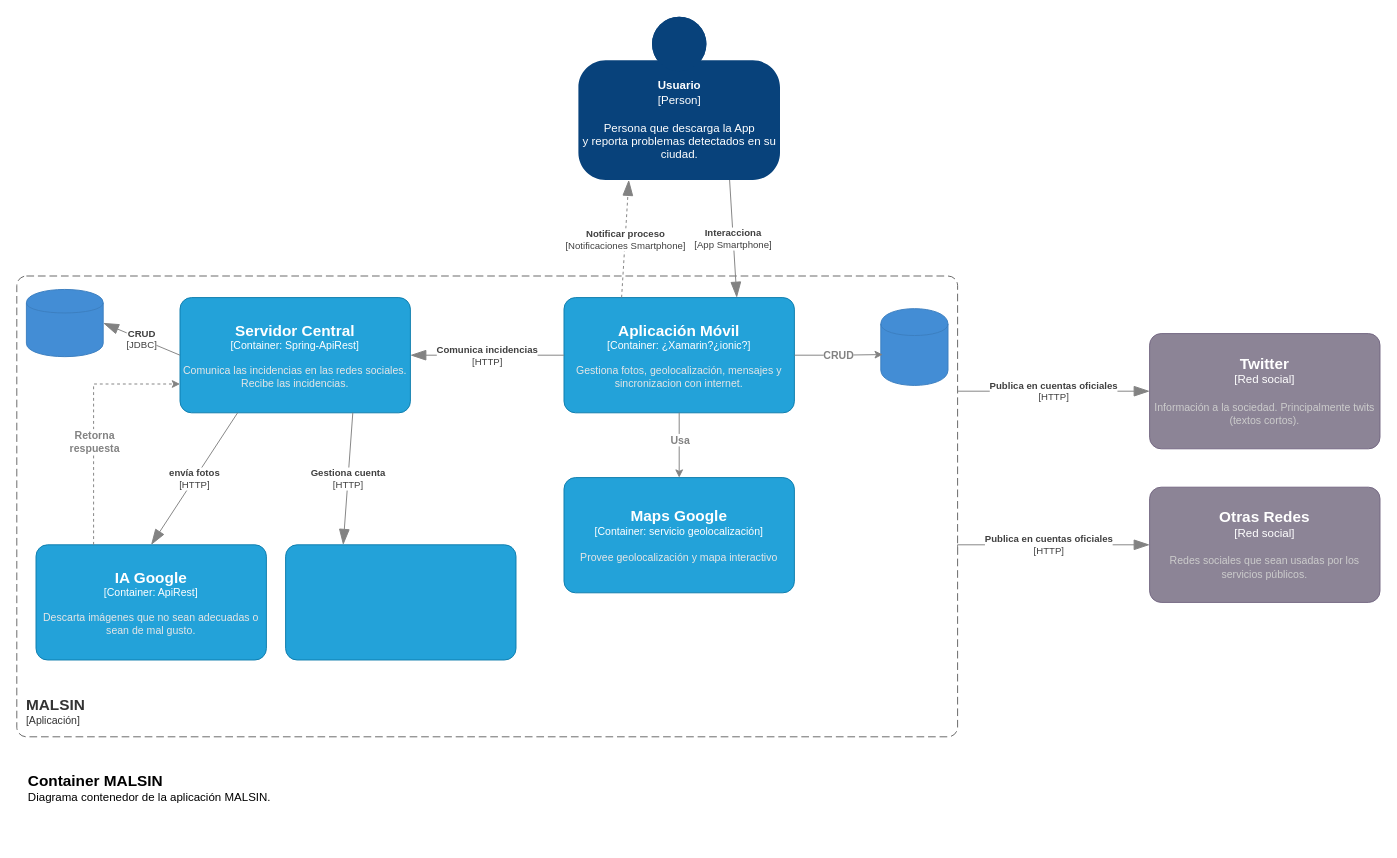
The diagram is 1397 pixels wide and 858 high, and some of its shapes have lost their labels. Each missing label, with the centre of its shape:
"Database [: PostgreSQL]" belongs at point 64,322.
"Database [: SQLite]" belongs at point 914,346.
"Red social [Container: ApiRest] Gestiona cuentas de usuario" belongs at point 400,602.
